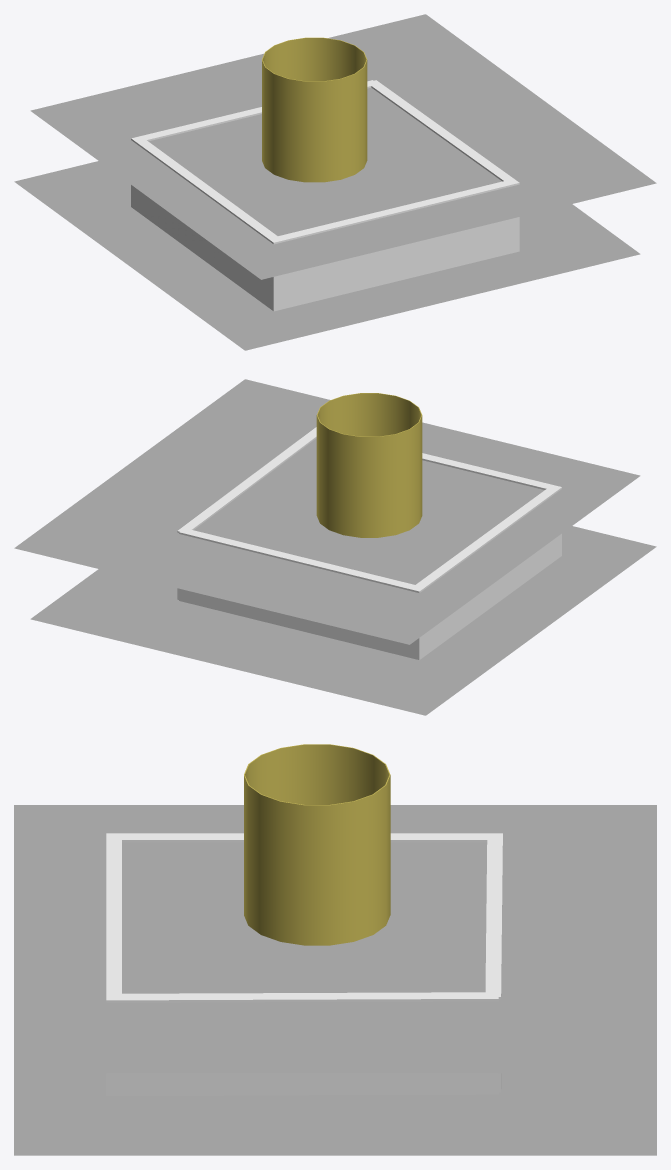
The model's file is Raum_3_mit_Tube.fbx.
3 views of the same model, one above another, from view 1: azimuth 30°, elevation 25°; view 2: azimuth 150°, elevation 25°; view 3: azimuth 270°, elevation 25° (orthographic). The views are drawn at different scales.
Parts seen in each view (by area): view 1: Plane002, Plane001, Wall001, Tube001; view 2: Plane002, Plane001, Tube001, Wall001; view 3: Plane002, Plane001, Tube001, Wall001.
Part boxes in pixels (x1,y1,x2,y2): Plane002: (30, 14, 656, 279); Plane001: (14, 161, 640, 350); Wall001: (131, 80, 519, 311); Tube001: (262, 37, 367, 182); Plane002: (14, 379, 640, 644); Plane001: (30, 526, 656, 715); Tube001: (316, 393, 422, 537); Wall001: (177, 427, 561, 659); Plane002: (14, 805, 656, 1073); Plane001: (14, 1073, 656, 1155); Tube001: (244, 744, 390, 945); Wall001: (106, 833, 502, 1095).
Bounding box in the file's own units: 10000 × 3894 × 9720.
